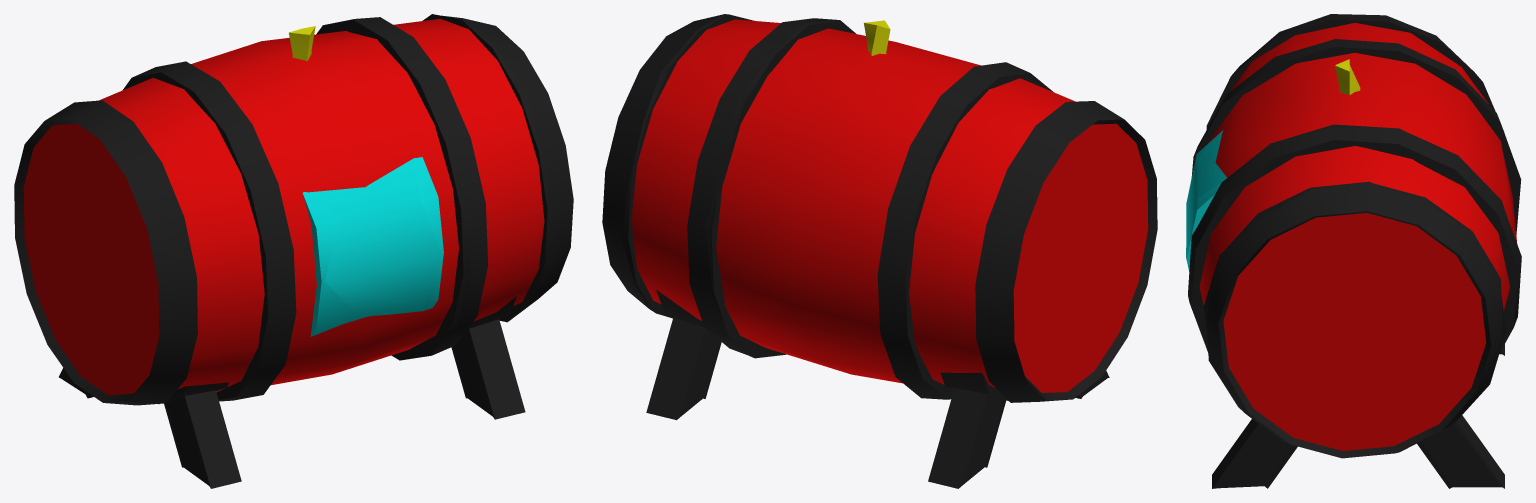
Rendered from Low_Env_ExplosiveBarrel.fbx.
3 renders of one model, left to right at view 1: azimuth 30°, elevation 25°; view 2: azimuth 150°, elevation 25°; view 3: azimuth 270°, elevation 25°, orthographic. The views are drawn at different scales.
Parts seen in each view (by area): view 1: Low_Env_ExplosiveBarrel; view 2: Low_Env_ExplosiveBarrel; view 3: Low_Env_ExplosiveBarrel.
Part boxes in pixels (x1=…): Low_Env_ExplosiveBarrel: x1=14, y1=14, x2=573, y2=488; Low_Env_ExplosiveBarrel: x1=602, y1=14, x2=1157, y2=488; Low_Env_ExplosiveBarrel: x1=1186, y1=14, x2=1521, y2=488.
Size of the model in its own units: 1.91 by 1.61 by 1.39.
